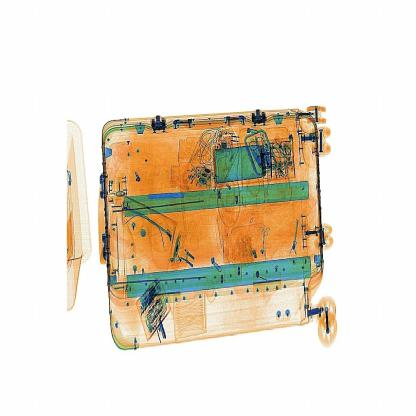pliers: (141, 180, 199, 209)
